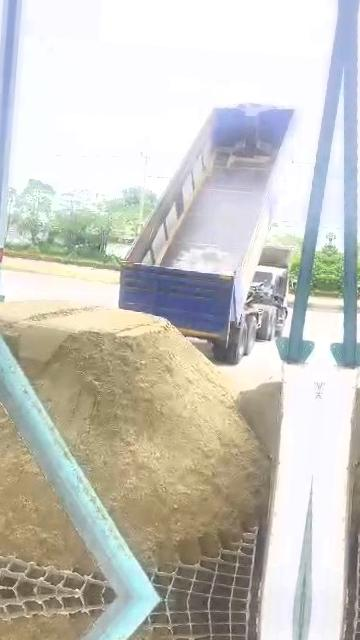sand: (0, 300, 269, 565), (0, 385, 92, 571), (237, 378, 282, 460)
